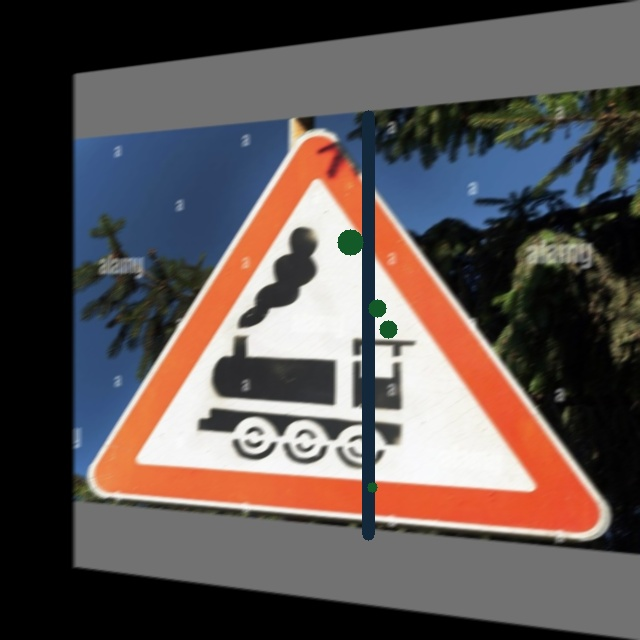Unguarded_Level_Crossing: (122, 135, 539, 527)
